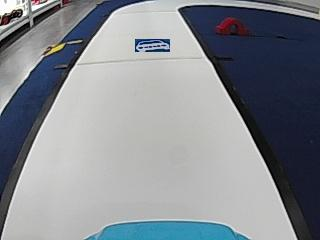bridge: (215, 16, 248, 34)
